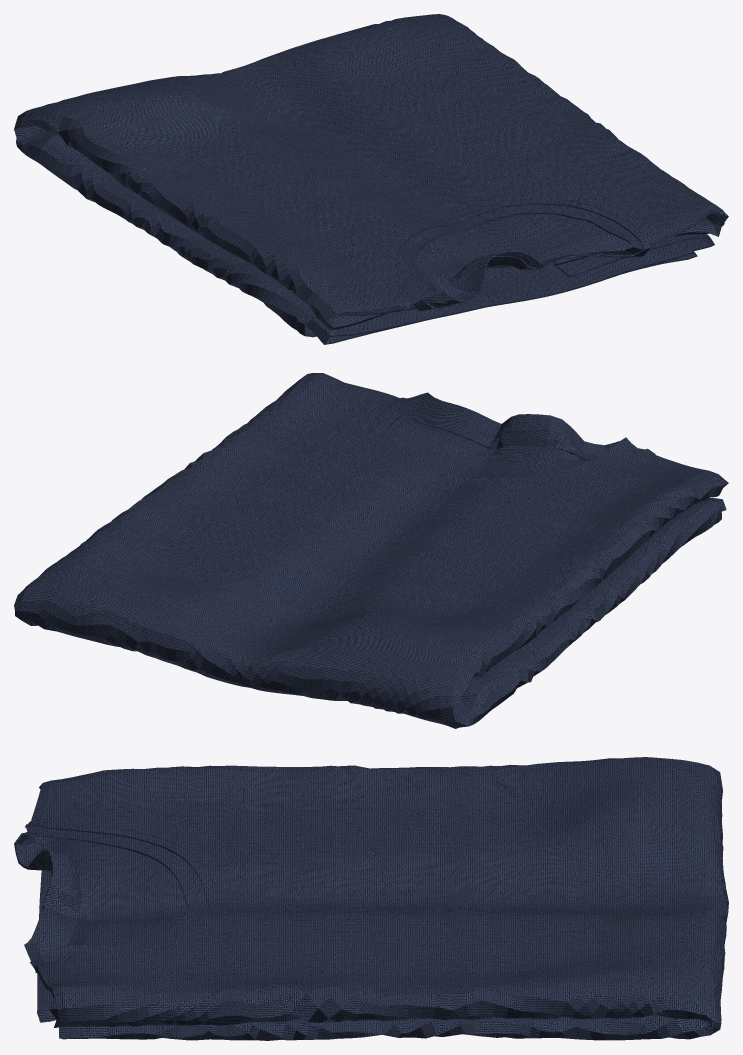
Rendered from T_shirt_body_266.fbx.
3 views of the same model, one above another, from view 1: azimuth 30°, elevation 25°; view 2: azimuth 150°, elevation 25°; view 3: azimuth 270°, elevation 25° (orthographic). The views are drawn at different scales.
Visible parts, largest first — view 1: T_shirt_body_266; view 2: T_shirt_body_266; view 3: T_shirt_body_266.
Boxes of the visible parts, box(x1,y1,x2,y2) form: T_shirt_body_266: box(14, 14, 728, 344); T_shirt_body_266: box(14, 373, 728, 728); T_shirt_body_266: box(14, 757, 728, 1040).
Bounding box in the file's own units: 10.23 × 1.33 × 12.33.
